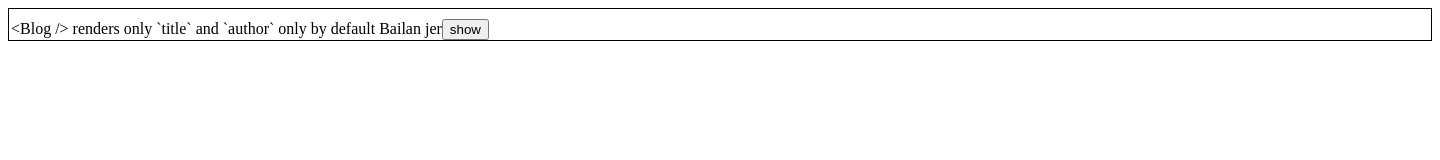
Test case: <Blog /> renders `url` and `no of likes` when `show` button is clicked
Click the button "show": (465, 30) x1=442 y1=19 x2=489 y2=40
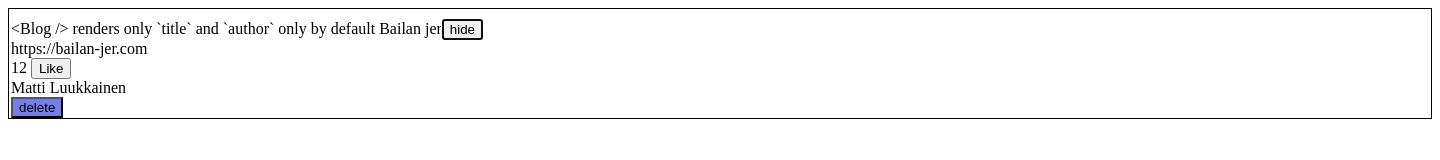
Expected: the text "https://bailan-jer.com" is shown, x1=11 y1=40 x2=147 y2=57
Expected: the text "12" is shown, x1=11 y1=59 x2=27 y2=76
